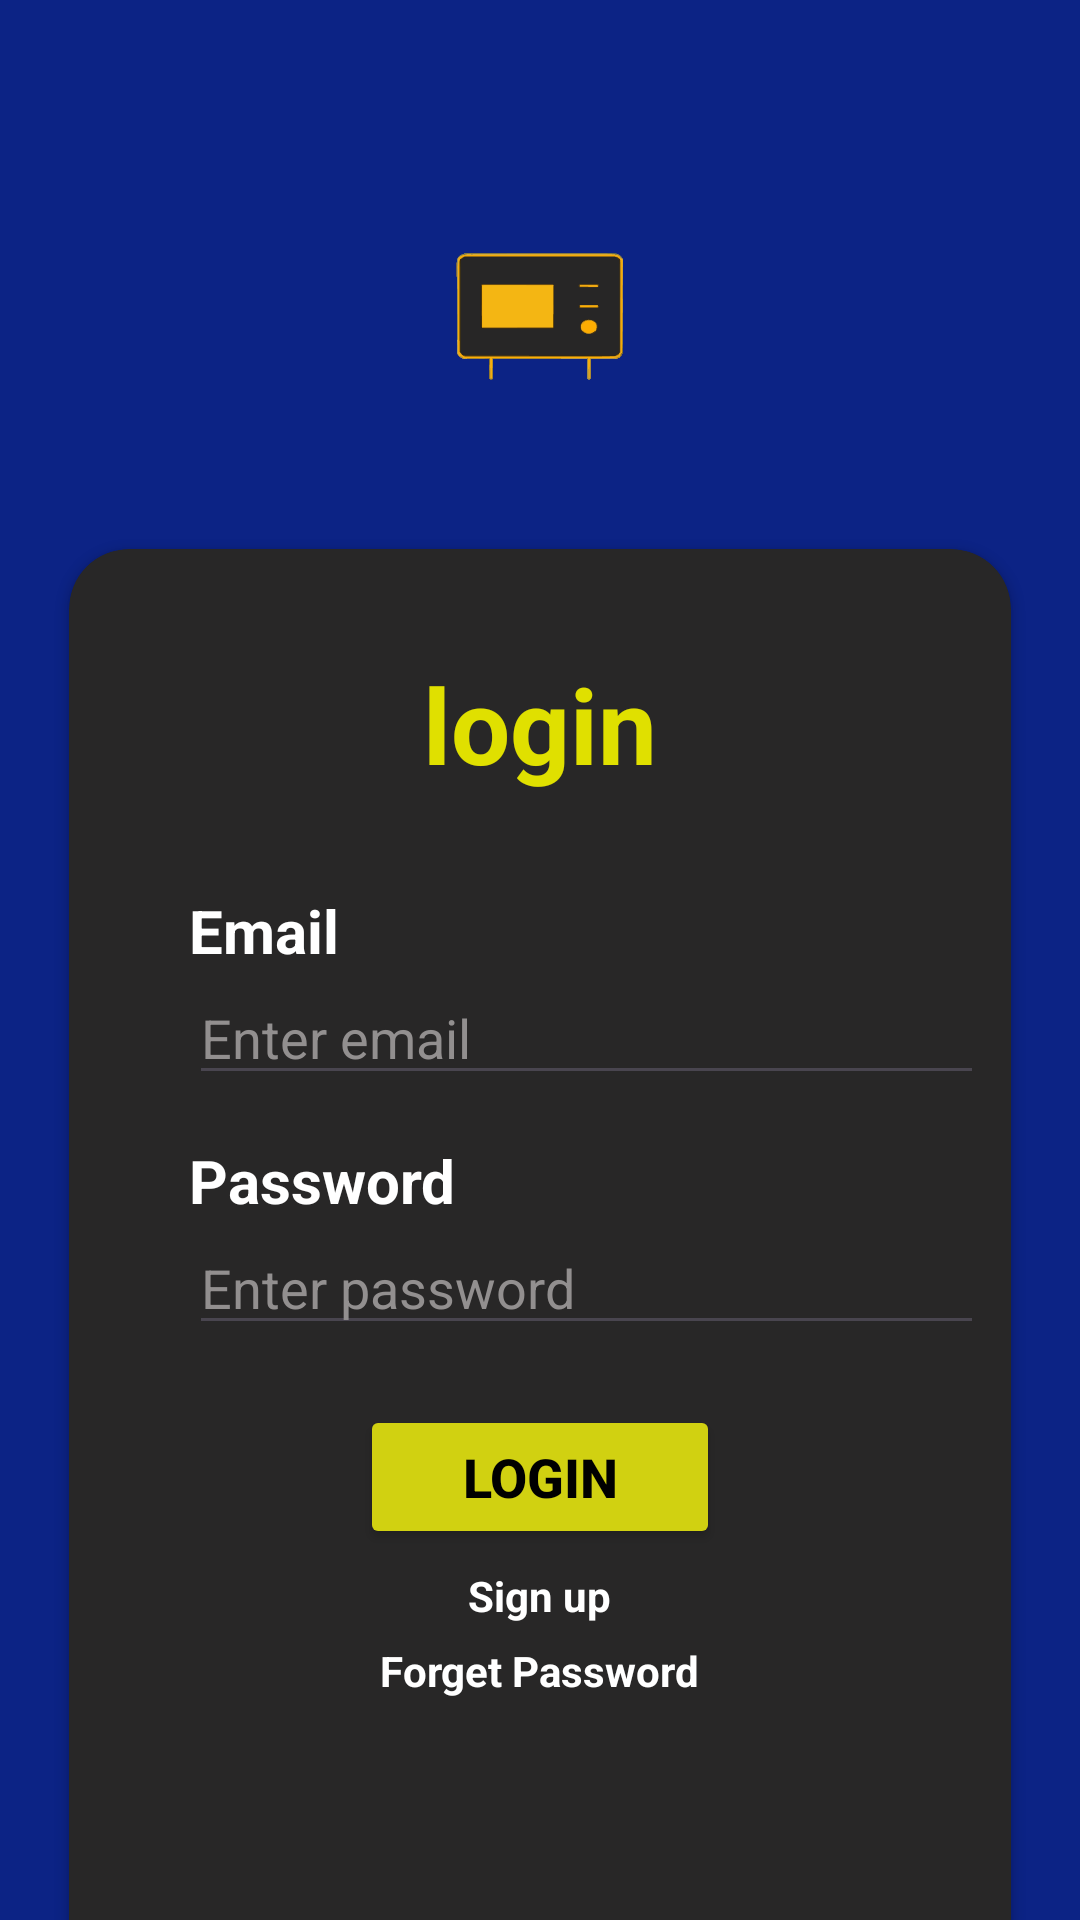

Named icons in this screenshot (1080x1920) and their bounding boxes, (x1, y1, x2, y2):
heathub: (456, 253, 623, 380)
